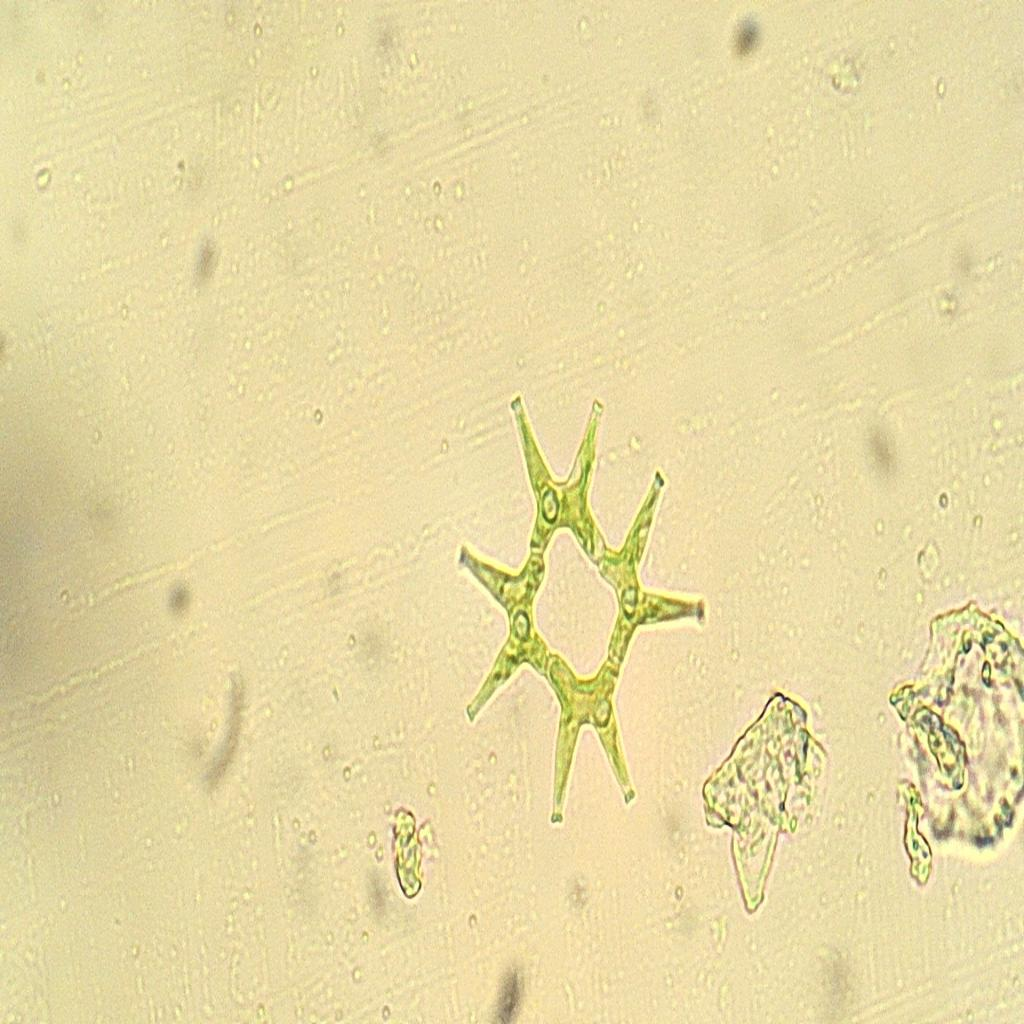Pediastrum_75O: (432, 374, 716, 834)
